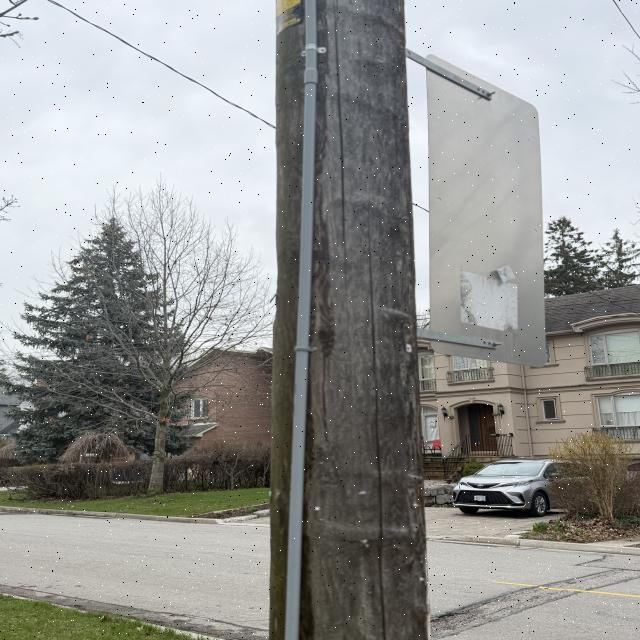Electrical Pole: (261, 0, 425, 638)
